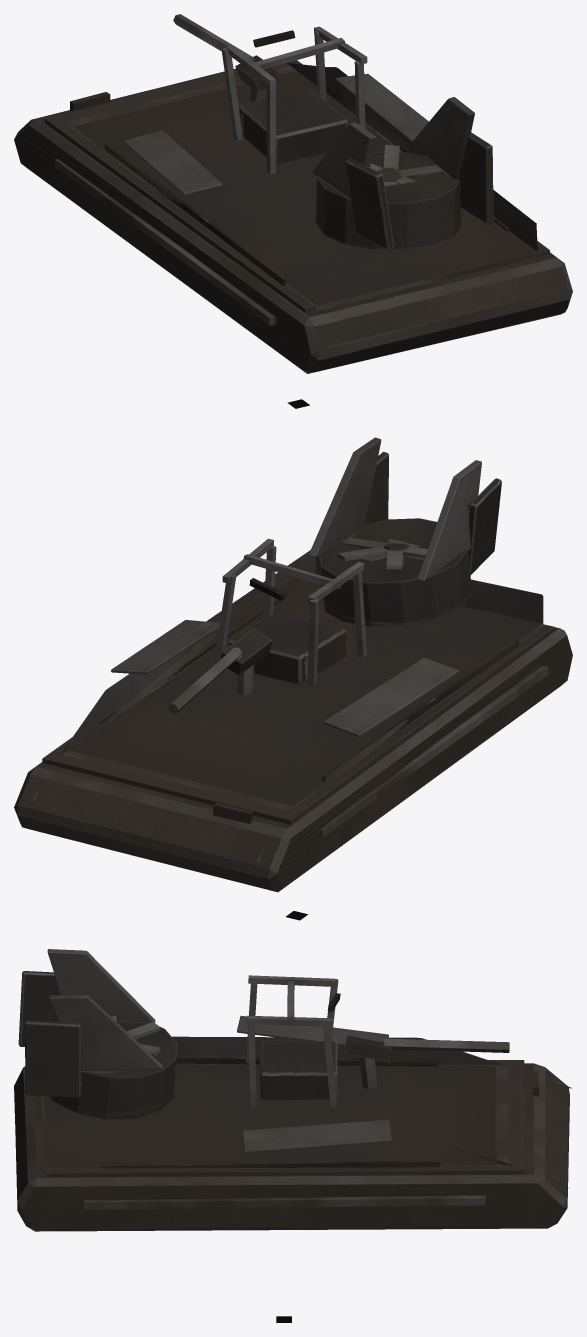
Rendered from chs_gnat_wreck.fbx.
3 renders of one model, top to bottom at view 1: azimuth 30°, elevation 25°; view 2: azimuth 150°, elevation 25°; view 3: azimuth 270°, elevation 25°, orthographic. The views are drawn at different scales.
Visible parts, largest first — view 1: base_bar, turret_bar, fan1_bar; view 2: base_bar, turret_bar, fan1_bar; view 3: base_bar, turret_bar, fan1_bar.
Boxes of the visible parts, x1=… form: base_bar: x1=14, y1=26, x2=572, y2=373; turret_bar: x1=173, y1=14, x2=280, y2=102; fan1_bar: x1=370, y1=144, x2=444, y2=187; base_bar: x1=14, y1=437, x2=572, y2=892; turret_bar: x1=168, y1=628, x2=272, y2=713; fan1_bar: x1=337, y1=537, x2=427, y2=569; base_bar: x1=14, y1=949, x2=571, y2=1231; turret_bar: x1=343, y1=1035, x2=509, y2=1089; fan1_bar: x1=103, y1=1016, x2=160, y2=1071.
Size of the model in its own units: 378 by 486 by 714.
Materials: 2 (2 with a texture image).
